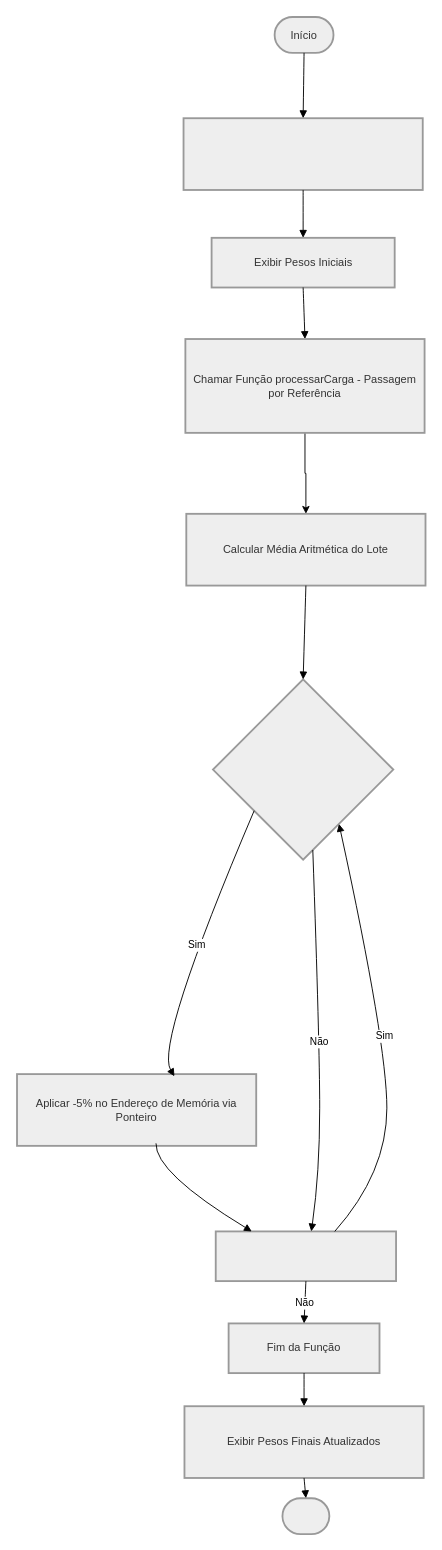
Some shapes in this 442 by 1550 pixel diagram are drawn without their labels. Here are the shapes that lost their labels. From the top down, the centre of each, then its label:
[302,153]: Declarar e Inicializar Vetor de 10 Pesos na Main
[303,769]: Peso > Média + 10%?
[305,1256]: Próximo Elemento?
[305,1516]: Fim
